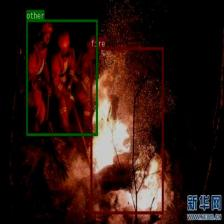fire: (90, 47, 163, 214)
